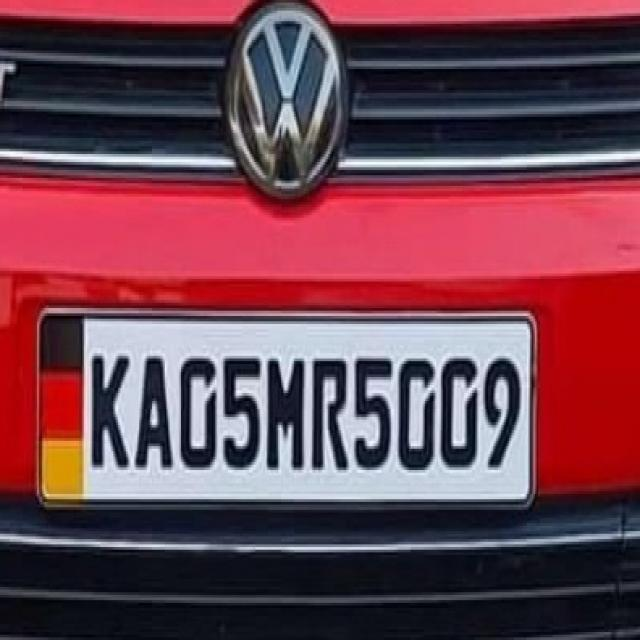0: (173, 346, 219, 472), (394, 346, 438, 474), (440, 344, 483, 470)
5: (350, 347, 396, 470), (220, 348, 264, 472)
9: (478, 347, 526, 480)
A: (132, 347, 176, 480)
K: (88, 344, 132, 474)
M: (263, 349, 308, 476)
R: (306, 350, 352, 478)
